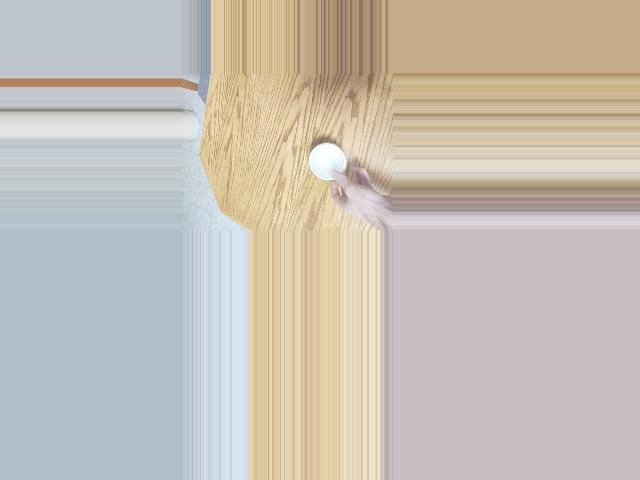cotage: (312, 147, 347, 181)
